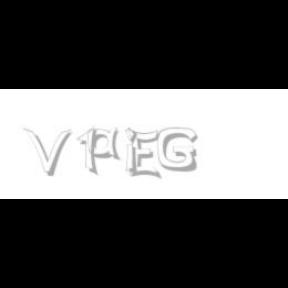1: (77, 128, 99, 176)
E: (128, 128, 160, 180)
G: (157, 128, 197, 172)
V: (24, 128, 72, 176)
a: (88, 128, 124, 160)
i: (125, 128, 141, 176)
